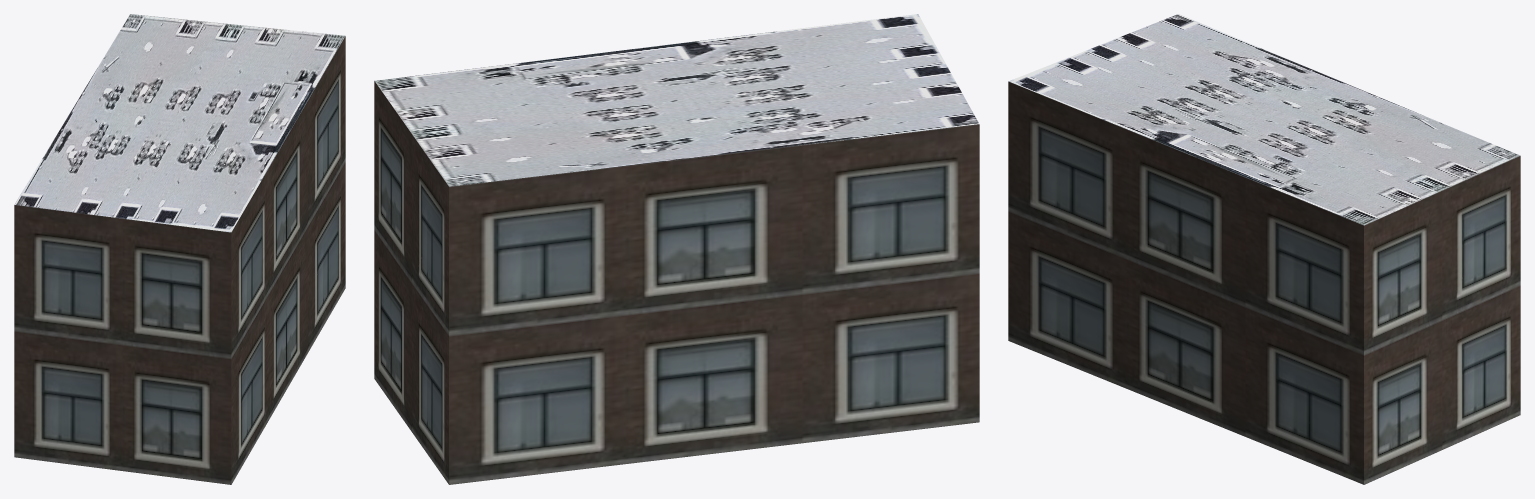
Rendered from ResTex__3141.fbx.
The picture shows the model from 3 angles, left to right: view 1: azimuth 30°, elevation 25°; view 2: azimuth 150°, elevation 25°; view 3: azimuth 270°, elevation 25°; orthographic projection. The views are drawn at different scales.
Visible parts, largest first — view 1: CityEngineMaterial_16_m, CityEngineMaterial_15_m; view 2: CityEngineMaterial_16_m, CityEngineMaterial_15_m; view 3: CityEngineMaterial_16_m, CityEngineMaterial_15_m.
Boxes of the visible parts, x1,y1,x2,y2 form: CityEngineMaterial_16_m: (14, 36, 345, 484); CityEngineMaterial_15_m: (14, 14, 345, 232); CityEngineMaterial_16_m: (374, 81, 979, 484); CityEngineMaterial_15_m: (375, 14, 978, 186); CityEngineMaterial_16_m: (1008, 81, 1520, 484); CityEngineMaterial_15_m: (1009, 14, 1520, 225).
Bounding box in the file's own units: 10.49 × 6 × 10.73.
2 materials, 2 textured.
